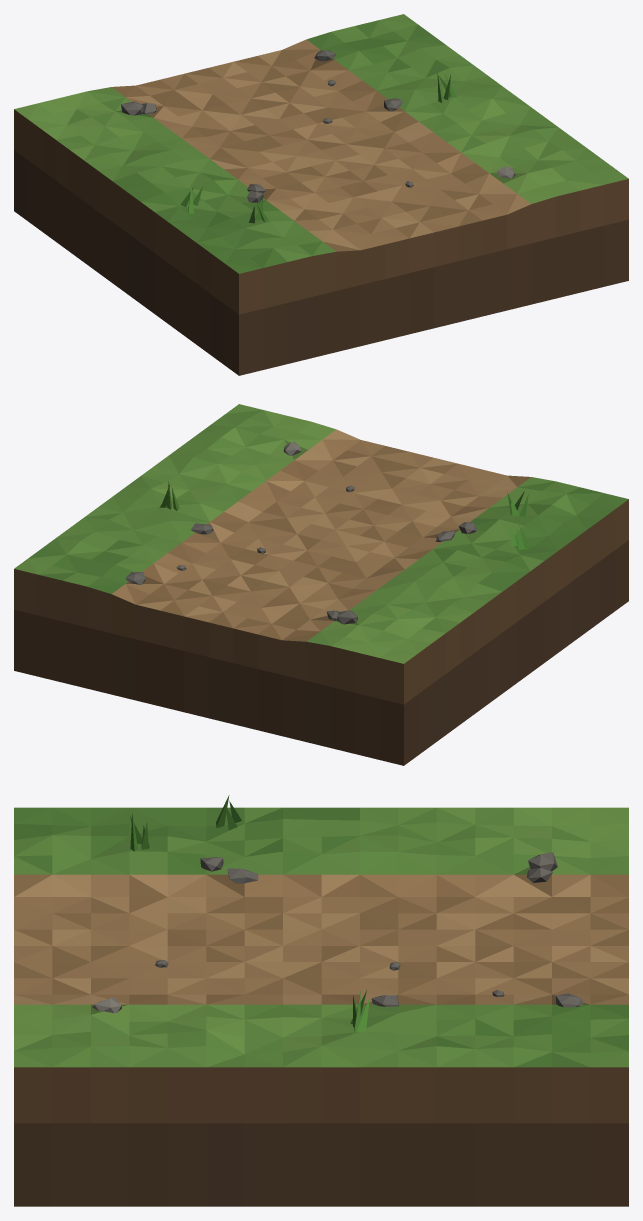
File: road_straight.glb
3 views of the same model, one above another, from view 1: azimuth 30°, elevation 25°; view 2: azimuth 150°, elevation 25°; view 3: azimuth 270°, elevation 25° (orthographic). The views are drawn at different scales.
Parts seen in each view (by area): view 1: RoadStraight; view 2: RoadStraight; view 3: RoadStraight.
Part boxes in pixels (box(x1,y1,x2,y2)): RoadStraight: box(14, 14, 628, 375); RoadStraight: box(14, 404, 628, 765); RoadStraight: box(14, 795, 628, 1206).
Size of the model in its own units: 2 by 0.638 by 2.
